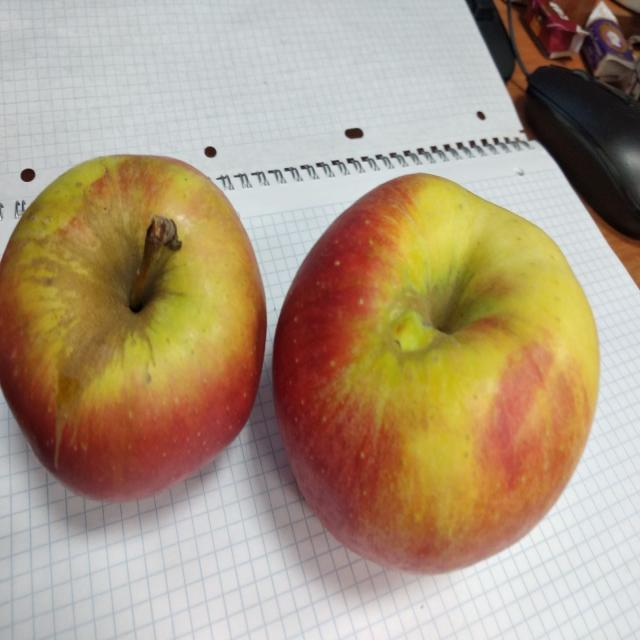Fresh Apple: (273, 187, 587, 560), (12, 157, 278, 500)
